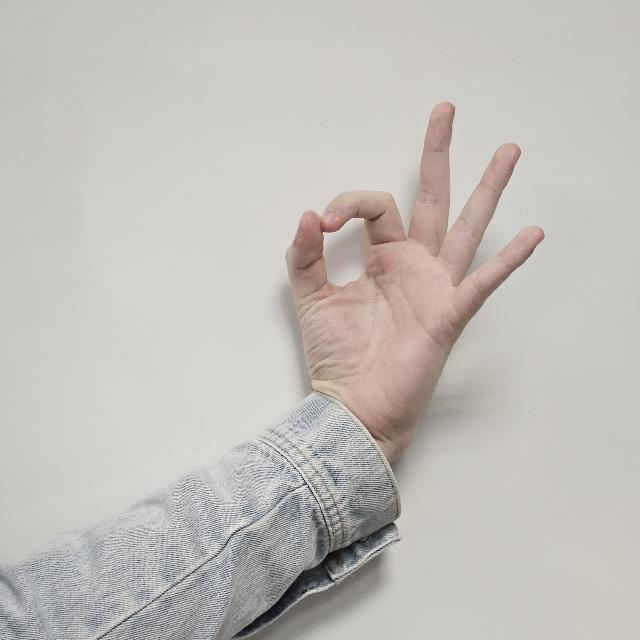Bolinha: (286, 91, 550, 461)
